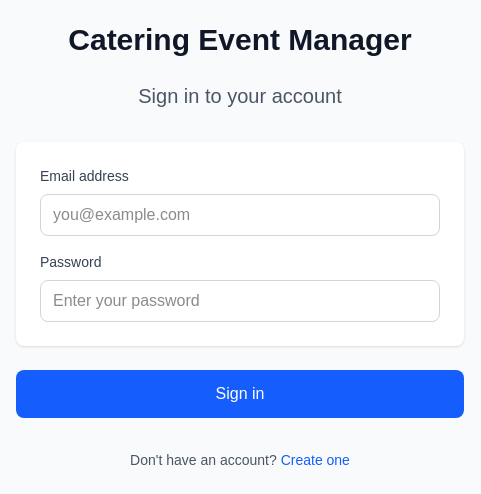
LoginForm › shows validation error for invalid email
This screenshot has width=481, height=494.
In the field labelled "Email address": (240, 215) x1=40 y1=194 x2=440 y2=236, type "notanemail"
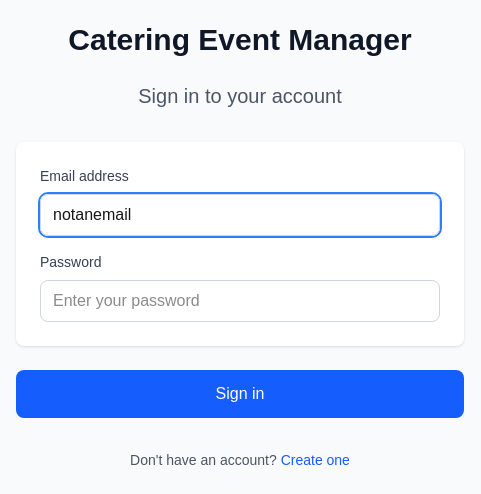
In the password field labelled "Password": (240, 301) x1=40 y1=280 x2=440 y2=322, type "password123"
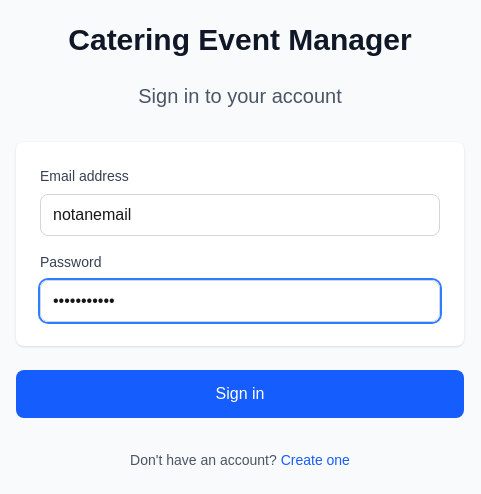
Note: Use fireEvent.submit to ensure form submission triggers
Submit the form "Email address Password Sign in", box x1=16 y1=142 x2=464 y2=418
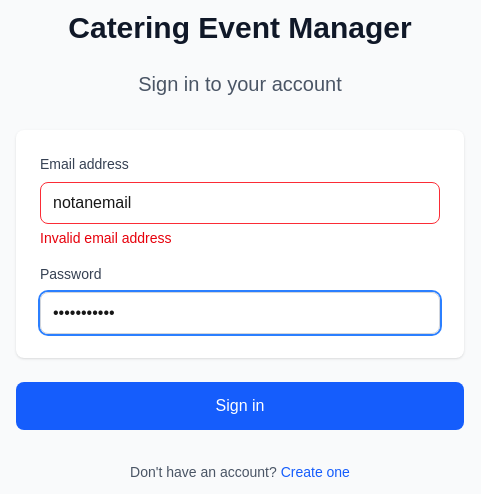
Check: the text "Invalid email address" is shown, box x1=40 y1=230 x2=172 y2=246
